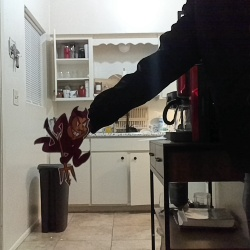sparky: (32, 104, 90, 185)
